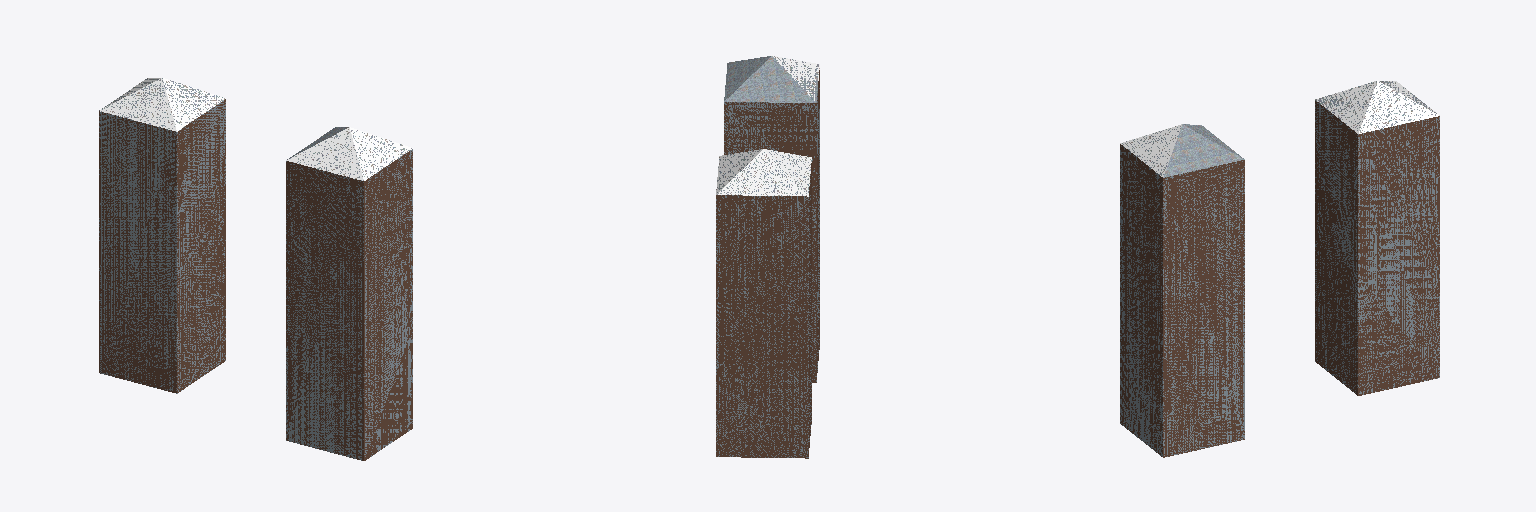
3 renders of one model, left to right at view 1: azimuth 30°, elevation 25°; view 2: azimuth 150°, elevation 25°; view 3: azimuth 270°, elevation 25°, orthographic.
Visible parts, largest first — view 1: Mesh6 Group1 Model, Mesh5 Group1 Model, Mesh1 Tours_ottoniennes Group1 Model, Mesh2 Tours_ottoniennes Group1 Model; view 2: Mesh5 Group1 Model, Mesh6 Group1 Model, Mesh1 Tours_ottoniennes Group1 Model, Mesh2 Tours_ottoniennes Group1 Model; view 3: Mesh6 Group1 Model, Mesh5 Group1 Model, Mesh2 Tours_ottoniennes Group1 Model, Mesh1 Tours_ottoniennes Group1 Model.
Boxes of the visible parts, box(x1,y1,x2,y2) form: Mesh6 Group1 Model: box(286, 149, 412, 460); Mesh5 Group1 Model: box(99, 99, 225, 393); Mesh1 Tours_ottoniennes Group1 Model: box(286, 127, 412, 180); Mesh2 Tours_ottoniennes Group1 Model: box(99, 78, 225, 131); Mesh5 Group1 Model: box(716, 163, 811, 458); Mesh6 Group1 Model: box(724, 70, 819, 382); Mesh1 Tours_ottoniennes Group1 Model: box(724, 56, 819, 102); Mesh2 Tours_ottoniennes Group1 Model: box(716, 149, 811, 196); Mesh6 Group1 Model: box(1120, 144, 1244, 457); Mesh5 Group1 Model: box(1315, 100, 1439, 395); Mesh2 Tours_ottoniennes Group1 Model: box(1315, 81, 1439, 133); Mesh1 Tours_ottoniennes Group1 Model: box(1120, 124, 1244, 177).
Bounding box in the file's own units: 30.39 × 45.07 × 42.59.
Materials: 4 (1 with a texture image).